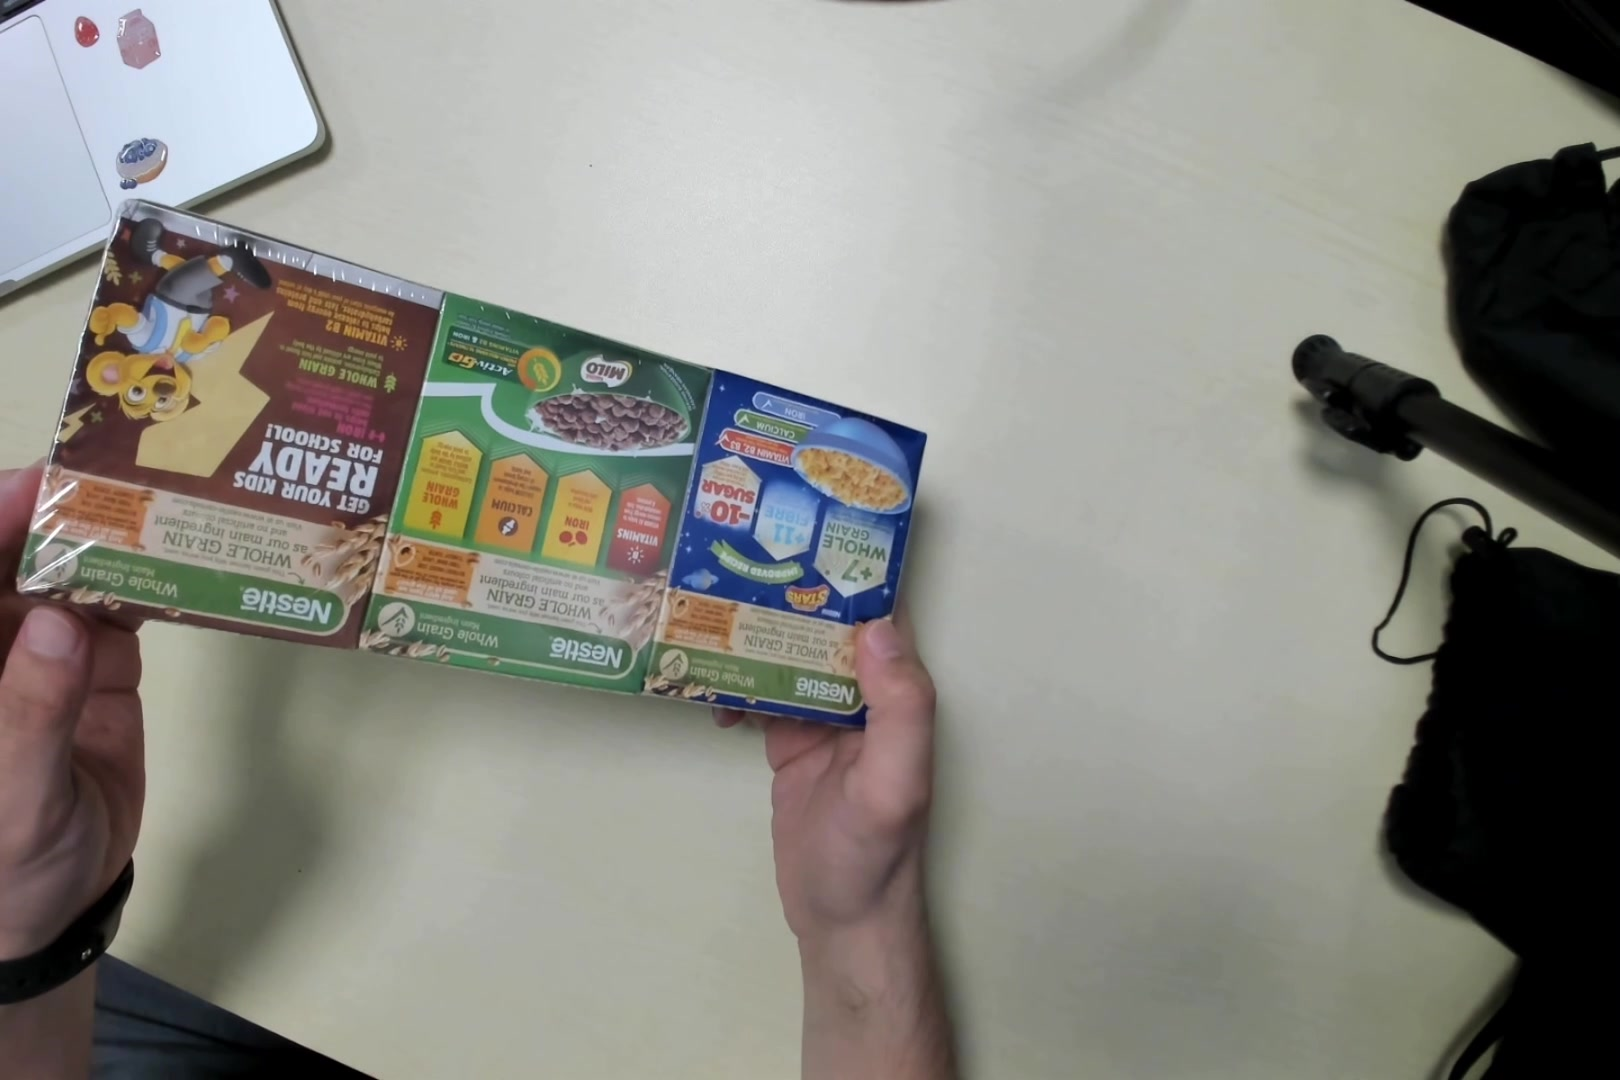BreakfastCereals_100-199g_Halal_NonHealthy: (5, 195, 927, 733)
